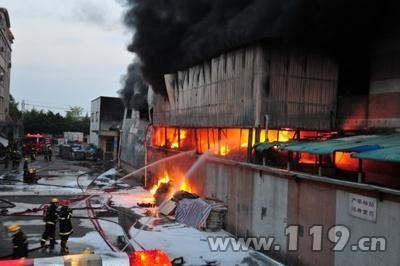fire: (140, 169, 196, 200)
